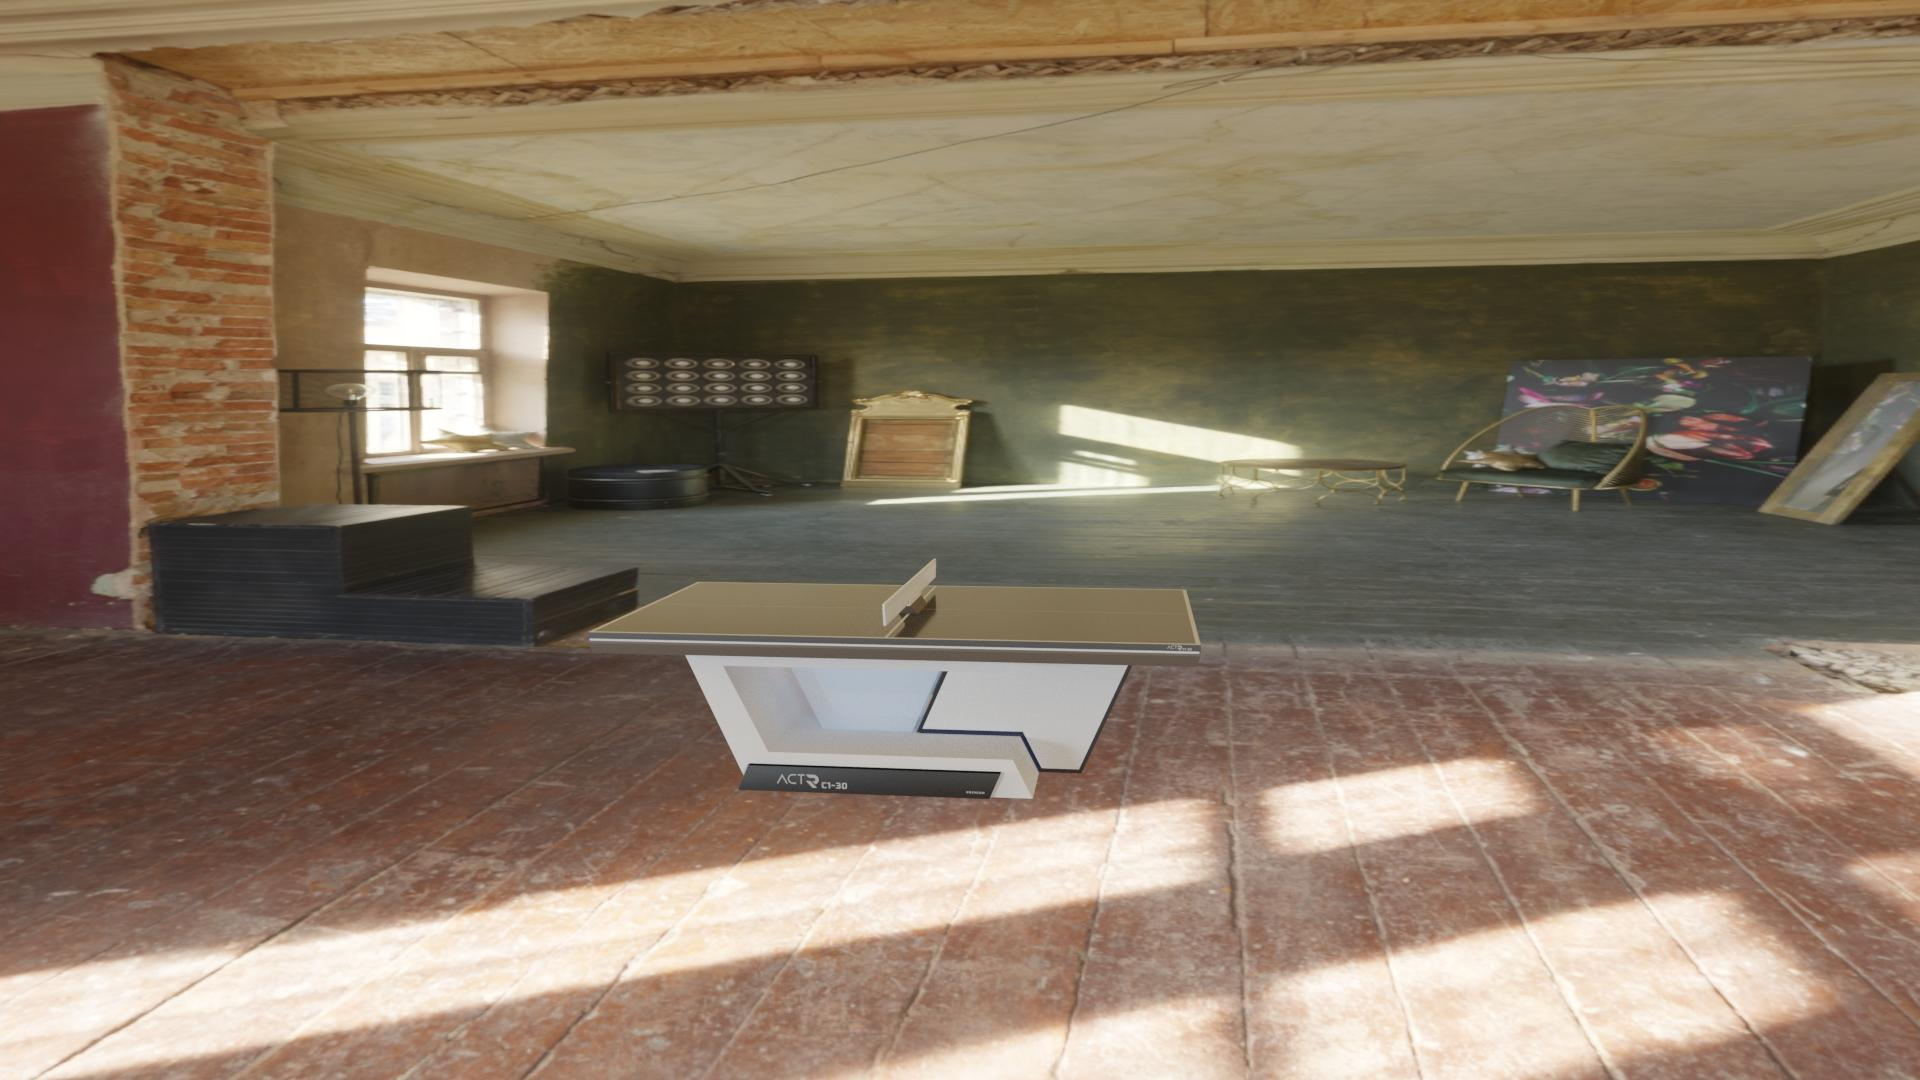table: (593, 583, 1196, 644)
